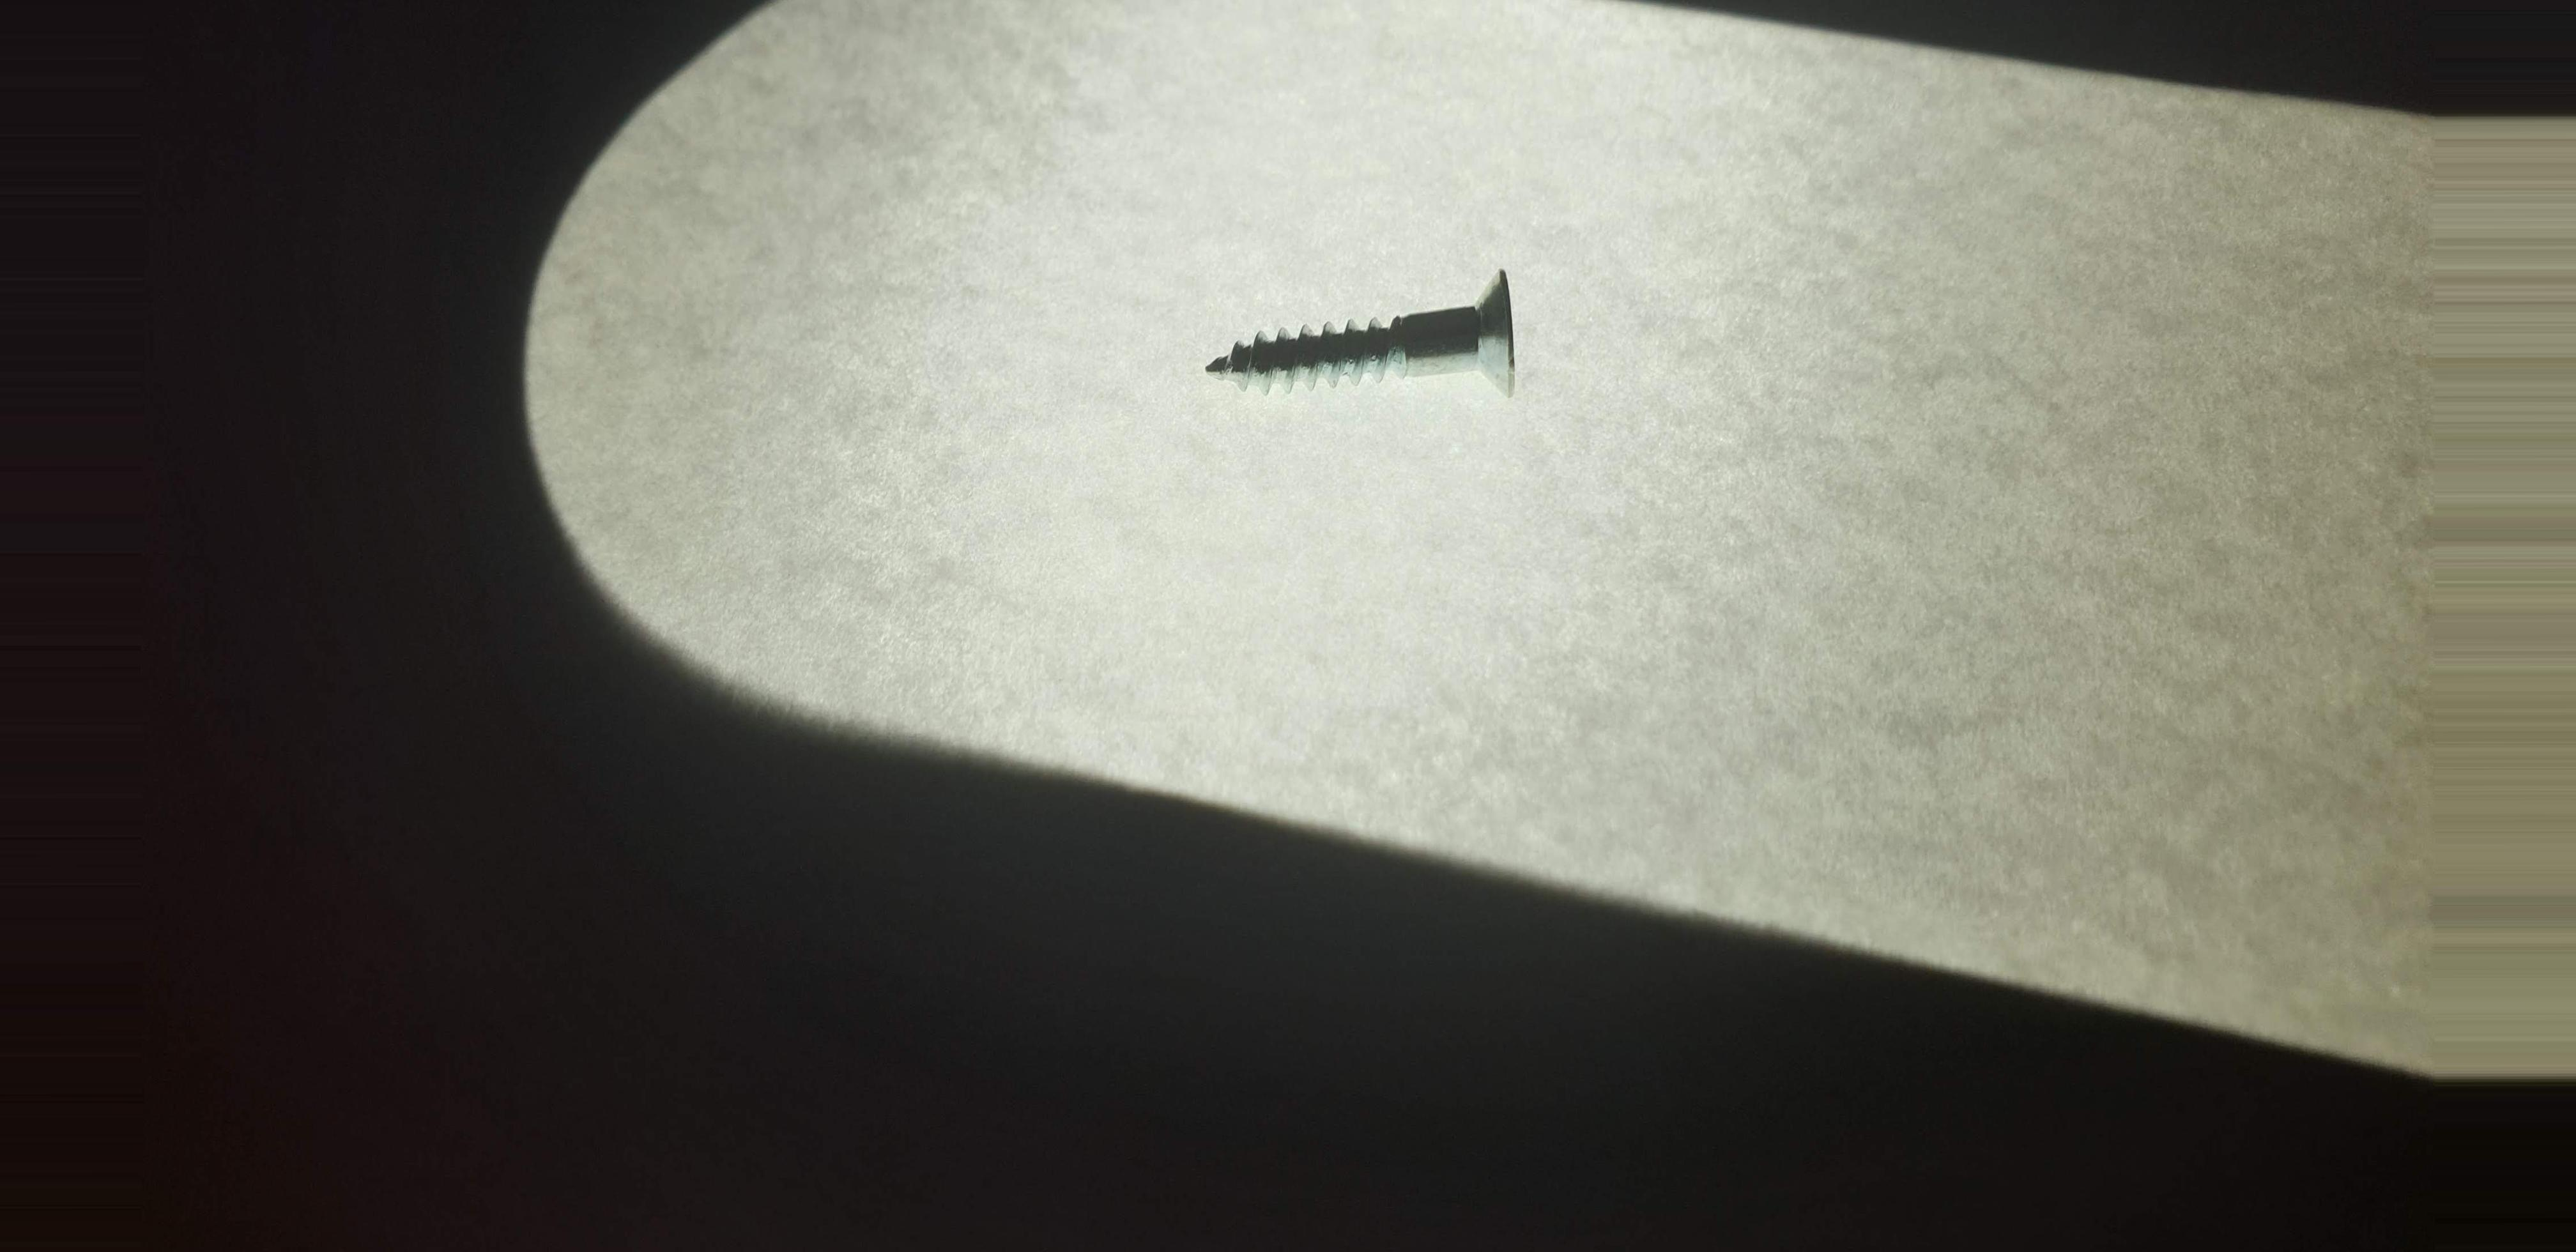S005: (1173, 255, 1571, 412)
